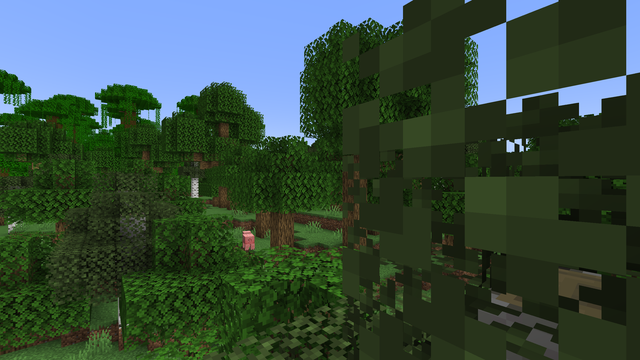cochons: (239, 232, 257, 249)
